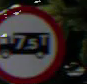Heavy Vehicles: (0, 3, 64, 82)
